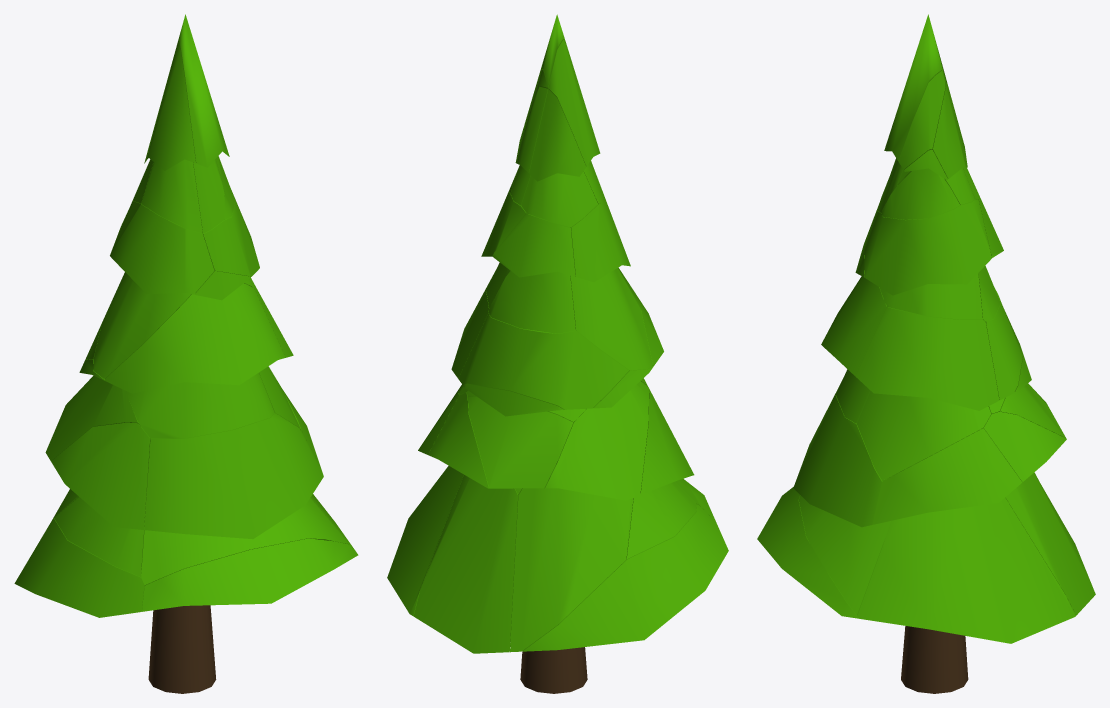
File: pine.fbx
3 renders of one model, left to right at view 1: azimuth 30°, elevation 25°; view 2: azimuth 150°, elevation 25°; view 3: azimuth 270°, elevation 25°, orthographic.
Visible parts, largest first — view 1: pinetreetopcell24, Pinetreetopcell13, Pinetreetopcell10, Pinetreetopcell9, Pinetreetopcell7, Pinetreetopcell6, Pinetreetopcell19, Log1, Pinetreetopcell8, Pinetreetopcell15, Pinetreetopcell16, Pinetreetopcell11 (+2 smaller); view 2: Pinetreetopcell15, Pinetreetopcell20, Pinetreetopcell6, Pinetreetopcell21, Pinetreetopcell10, Pinetreetopcell22, Pinetreetopcell18, Pinetreetopcell9, Pinetreetopcell17, Pinetreetopcell5, Pinetreetopcell19, Log1 (+7 smaller); view 3: Pinetreetopcell5, Pinetreetopcell11, pinetreetopcell24, Pinetreetopcell16, Pinetreetopcell20, Pinetreetopcell13, Pinetreetopcell7, Log1, Pinetreetopcell8, Pinetreetopcell4, Pinetreetopcell21, Pinetreetopcell12 (+4 smaller).
Boxes of the visible parts, x1,y1,x2,y2 form: pinetreetopcell24: (141, 413, 351, 585); Pinetreetopcell13: (104, 283, 285, 438); Pinetreetopcell10: (93, 201, 214, 378); Pinetreetopcell9: (51, 422, 150, 576); Pinetreetopcell7: (142, 538, 358, 611); Pinetreetopcell6: (14, 518, 144, 617); Pinetreetopcell19: (141, 40, 202, 233); Log1: (148, 605, 216, 693); Pinetreetopcell8: (178, 14, 225, 233); Pinetreetopcell15: (45, 375, 150, 518); Pinetreetopcell16: (203, 190, 259, 287); Pinetreetopcell11: (251, 278, 301, 430); Pinetreetopcell15: (510, 381, 648, 652); Pinetreetopcell20: (413, 392, 518, 653); Pinetreetopcell6: (522, 504, 728, 651); Pinetreetopcell21: (458, 313, 629, 422); Pinetreetopcell10: (570, 198, 652, 370); Pinetreetopcell22: (488, 213, 575, 333); Pinetreetopcell18: (468, 396, 573, 494); Pinetreetopcell9: (626, 388, 696, 558); Pinetreetopcell17: (521, 89, 598, 227); Pinetreetopcell5: (387, 386, 463, 616); Pinetreetopcell19: (548, 40, 604, 203); Log1: (520, 647, 587, 693); Pinetreetopcell5: (857, 428, 1076, 643); Pinetreetopcell11: (855, 307, 999, 480); pinetreetopcell24: (793, 379, 895, 615); Pinetreetopcell16: (864, 199, 991, 319); Pinetreetopcell20: (981, 411, 1095, 615); Pinetreetopcell13: (821, 276, 887, 423); Pinetreetopcell7: (757, 487, 857, 618); Log1: (901, 626, 968, 693); Pinetreetopcell8: (877, 14, 945, 212); Pinetreetopcell4: (881, 168, 959, 219); Pinetreetopcell21: (985, 288, 1022, 414); Pinetreetopcell12: (932, 83, 974, 204).
Bounding box in the file's own units: 220 × 470 × 217.
